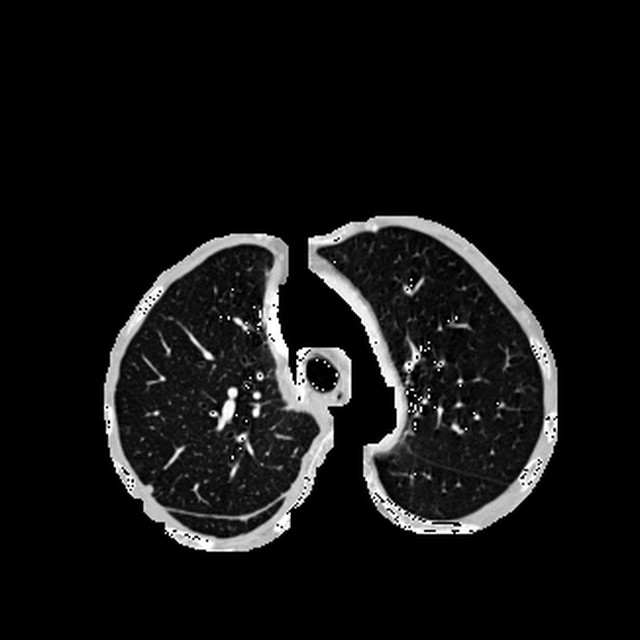PN: (145, 485, 153, 493)
